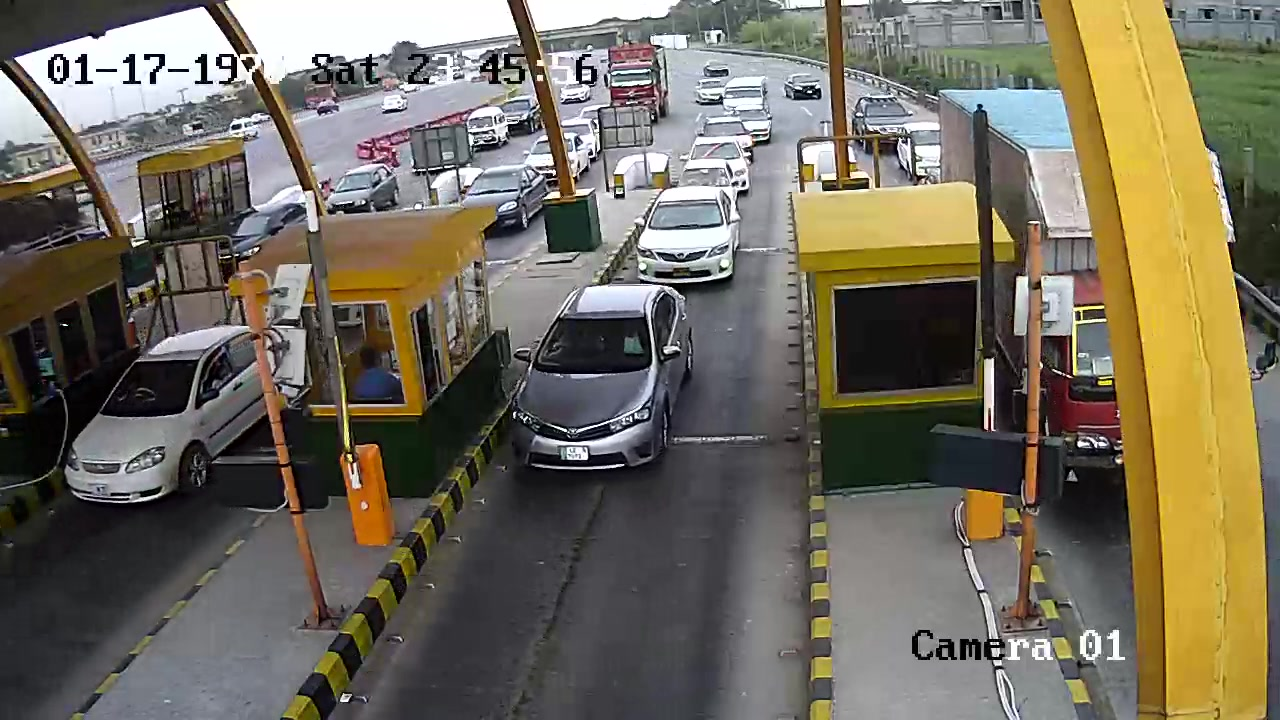F1: (496, 280, 708, 489)
